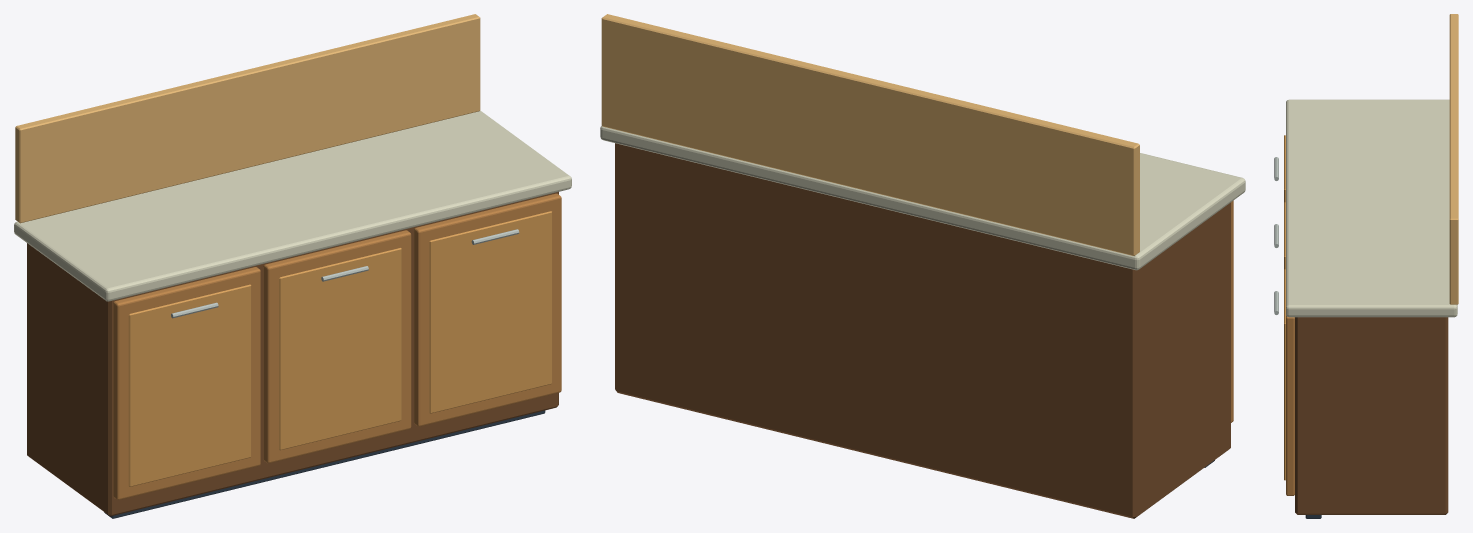
File: coffee_counter.glb
3 renders of one model, left to right at view 1: azimuth 30°, elevation 25°; view 2: azimuth 150°, elevation 25°; view 3: azimuth 270°, elevation 25°, orthographic. The views are drawn at different scales.
Parts seen in each view (by area): view 1: coffee_counter__oak_top, coffee_counter__stone, coffee_counter__oak_light, coffee_counter__oak_dark, coffee_counter__oak, coffee_counter__metal, coffee_counter__steel; view 2: coffee_counter__oak_dark, coffee_counter__oak_light, coffee_counter__stone; view 3: coffee_counter__stone, coffee_counter__oak_dark, coffee_counter__oak_light, coffee_counter__oak, coffee_counter__oak_top, coffee_counter__steel.
Part boxes in pixels (bbox=[...]): coffee_counter__oak_top: bbox=[128, 211, 552, 486]; coffee_counter__stone: bbox=[14, 110, 571, 301]; coffee_counter__oak_light: bbox=[15, 14, 480, 223]; coffee_counter__oak_dark: bbox=[27, 192, 558, 516]; coffee_counter__oak: bbox=[113, 193, 561, 500]; coffee_counter__metal: bbox=[104, 410, 545, 518]; coffee_counter__steel: bbox=[171, 229, 519, 318]; coffee_counter__oak_dark: bbox=[615, 143, 1230, 518]; coffee_counter__oak_light: bbox=[601, 14, 1139, 255]; coffee_counter__stone: bbox=[600, 125, 1245, 270]; coffee_counter__stone: bbox=[1286, 99, 1457, 317]; coffee_counter__oak_dark: bbox=[1295, 317, 1448, 514]; coffee_counter__oak_light: bbox=[1449, 14, 1458, 304]; coffee_counter__oak: bbox=[1286, 315, 1294, 495]; coffee_counter__oak_top: bbox=[1284, 135, 1285, 480]; coffee_counter__steel: bbox=[1274, 157, 1278, 314].
Bounding box in the file's own units: 1.86 × 1.28 × 0.6985.
